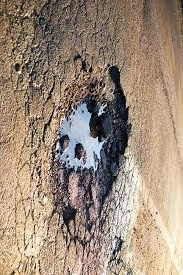pothole: (39, 58, 133, 235), (106, 236, 125, 251)
